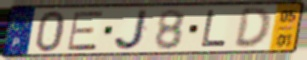0: (33, 9, 68, 53)
8: (152, 8, 186, 51)
D: (232, 6, 273, 50)
E: (65, 10, 105, 53)
J: (113, 8, 151, 52)
L: (199, 9, 229, 49)
